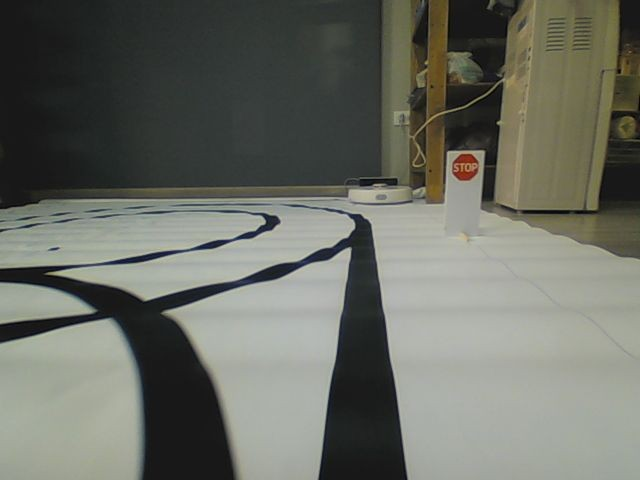Stop: (448, 153, 479, 182)
